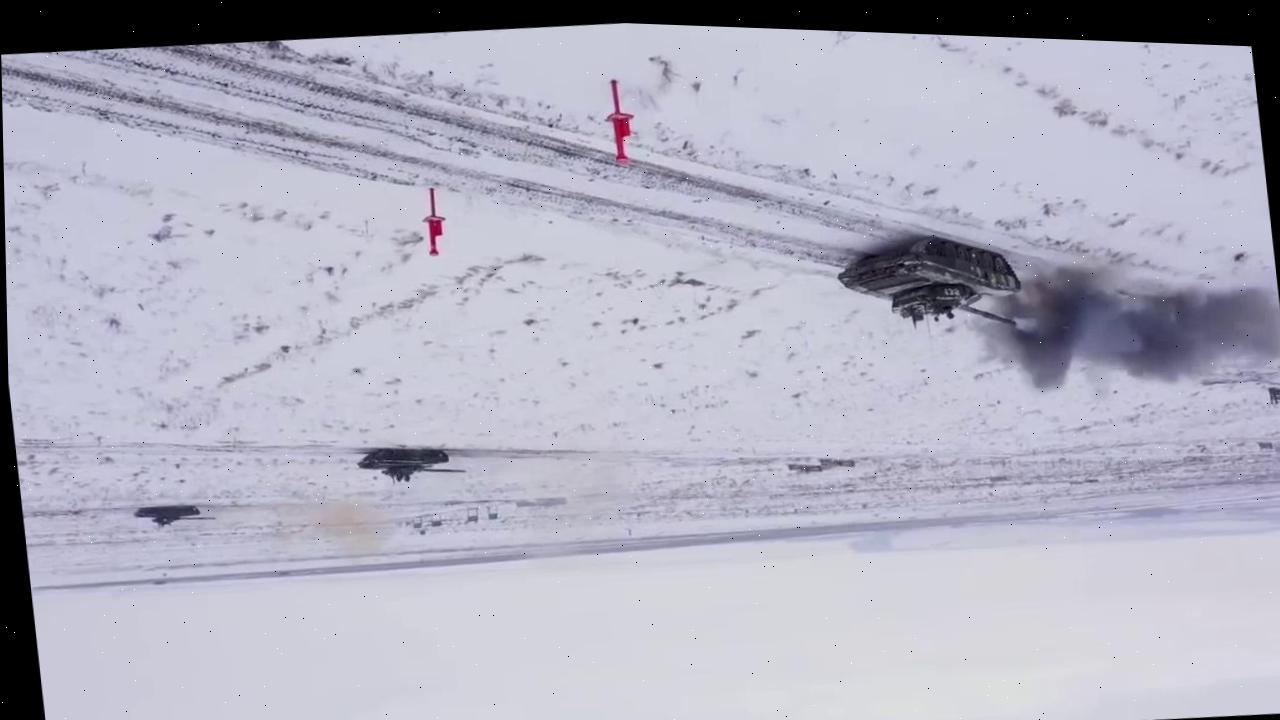tank: (833, 225, 1027, 345), (355, 440, 468, 489), (132, 501, 217, 533)
